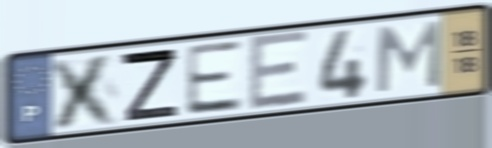4: (315, 26, 371, 101)
E: (247, 28, 311, 115), (182, 38, 246, 119)
M: (372, 18, 444, 96)
X: (46, 50, 123, 132)
Z: (117, 46, 182, 124)
